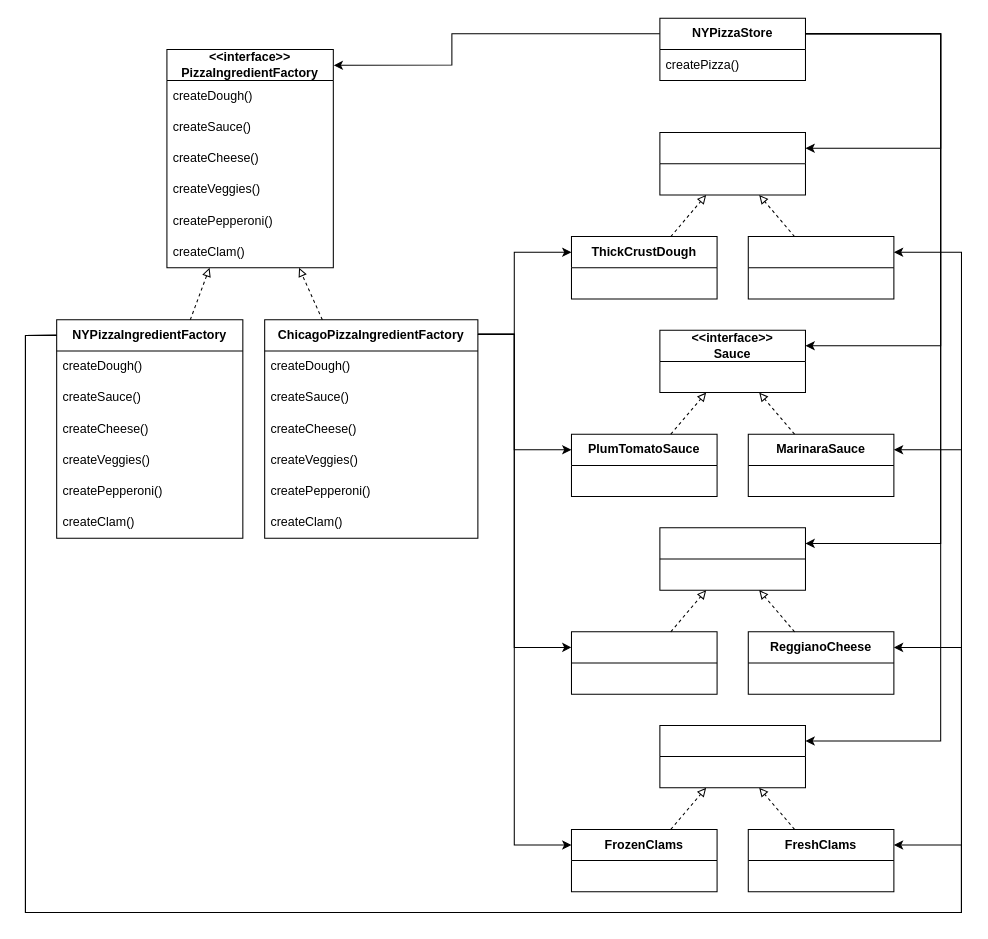
Image size: 988x939. Some labels were removed from this diagram. Here are the shapes that lost their labels. From the top down, the centre of each, then its label:
point (732, 163): <<interface>> Dough
point (820, 267): ThinCrustDough
point (732, 558): <<interface>> Cheese
point (643, 662): MozzarellaCheese
point (732, 756): <<interface>> Clams
